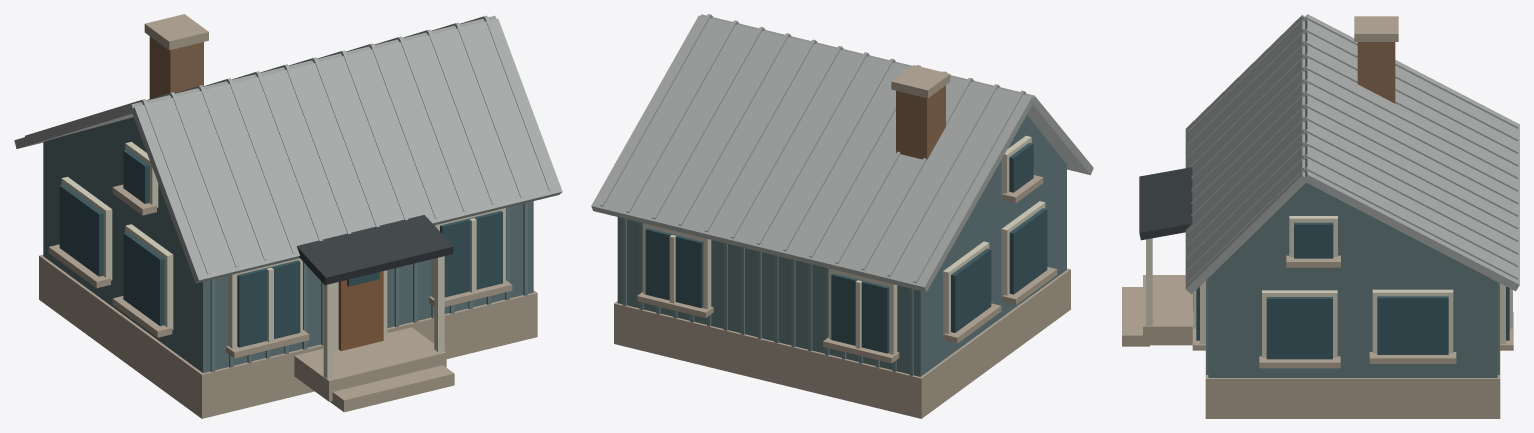
Rendered from hill-saltbox.glb.
3 views of the same model, side by side, from view 1: azimuth 30°, elevation 25°; view 2: azimuth 150°, elevation 25°; view 3: azimuth 270°, elevation 25° (orthographic). The views are drawn at different scales.
Parts seen in each view (by area): view 1: Long-run metal roof, Basalt footing, Boarded ground floor, Door canopy, Front porch landing, Recessed glass.005, Enclosed loft, Recessed glass.006, Gable window pane, Mustard painted front door, Gable window pane.001, Garden step (+33 smaller); view 2: Long-run metal roof.001, Boarded ground floor, Basalt footing, Recessed glass.007, Recessed glass.008, Chimney, Enclosed loft, Gable window pane.001, Gable window pane, Long-run metal roof, Chimney cowl, Window casing.007 (+25 smaller); view 3: Long-run metal roof.001, Boarded ground floor, Long-run metal roof, Basalt footing, Enclosed loft, Gable window pane.003, Gable window pane.004, Door canopy, Front porch landing, Chimney, Gable window pane.005, Gable window surround.003 (+30 smaller).
Part boxes in pixels (left/top/right/bottom): Long-run metal roof: left=131, top=18, right=562, bottom=283; Basalt footing: left=39, top=255, right=537, bottom=418; Boarded ground floor: left=43, top=142, right=533, bottom=372; Door canopy: left=296, top=215, right=453, bottom=285; Front porch landing: left=294, top=327, right=446, bottom=401; Recessed glass.005: left=237, top=260, right=300, bottom=347; Enclosed loft: left=44, top=117, right=179, bottom=240; Recessed glass.006: left=440, top=211, right=502, bottom=297; Gable window pane: left=59, top=184, right=103, bottom=276; Mustard painted front door: left=338, top=271, right=383, bottom=350; Gable window pane.001: left=123, top=232, right=164, bottom=326; Garden step: left=330, top=365, right=454, bottom=412; Long-run metal roof.001: left=591, top=15, right=1033, bottom=292; Boarded ground floor: left=617, top=161, right=1066, bottom=376; Basalt footing: left=614, top=268, right=1070, bottom=418; Recessed glass.007: left=831, top=273, right=889, bottom=353; Recessed glass.008: left=645, top=228, right=703, bottom=308; Chimney: left=896, top=85, right=945, bottom=160; Enclosed loft: left=952, top=115, right=1066, bottom=247; Gable window pane.001: left=1009, top=208, right=1047, bottom=294; Gable window pane: left=951, top=248, right=991, bottom=332; Long-run metal roof: left=700, top=14, right=1093, bottom=175; Chimney cowl: left=891, top=65, right=950, bottom=98; Window casing.007: left=829, top=268, right=897, bottom=354; Long-run metal roof.001: left=1304, top=14, right=1519, bottom=291; Boarded ground floor: left=1208, top=271, right=1497, bottom=377; Long-run metal roof: left=1185, top=15, right=1307, bottom=294; Basalt footing: left=1205, top=351, right=1500, bottom=418; Enclosed loft: left=1213, top=182, right=1482, bottom=274; Gable window pane.003: left=1377, top=296, right=1448, bottom=354; Gable window pane.004: left=1266, top=297, right=1332, bottom=359; Door canopy: left=1139, top=167, right=1192, bottom=240; Front porch landing: left=1143, top=275, right=1193, bottom=345; Chimney: left=1357, top=42, right=1395, bottom=103; Gable window pane.005: left=1294, top=222, right=1333, bottom=258; Gable window surround.003: left=1372, top=289, right=1453, bottom=353.
Bounding box in the file's own units: 8.33 × 6.65 × 8.69.
